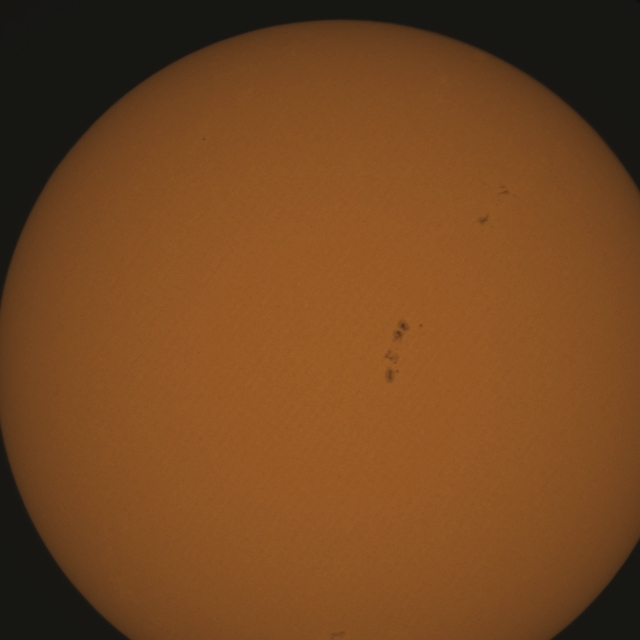sunspot: (382, 318, 412, 364), (382, 348, 401, 386), (390, 320, 411, 348), (476, 213, 490, 227), (330, 630, 347, 640), (496, 184, 509, 197), (418, 322, 424, 329), (202, 136, 207, 142)
